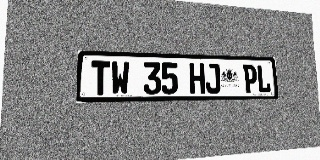3: (143, 62, 161, 94)
5: (161, 62, 178, 94)
H: (189, 63, 205, 94)
J: (205, 63, 221, 94)
L: (257, 65, 271, 93)
P: (243, 64, 258, 93)
T: (91, 61, 110, 95)
W: (111, 61, 129, 95)
